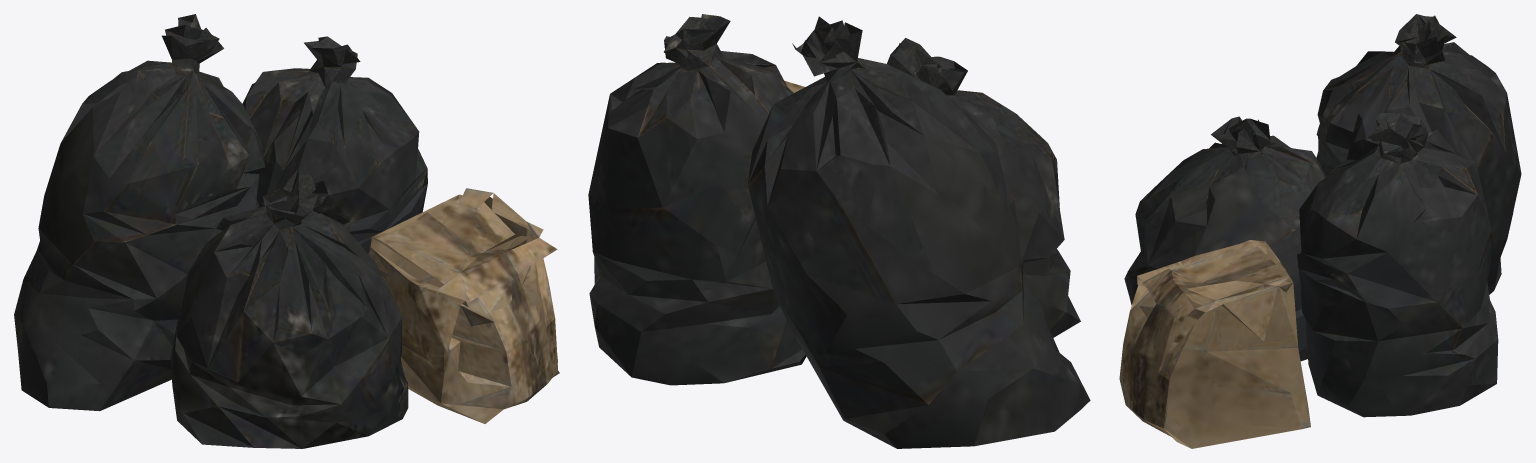
The model's file is garbage_cluster_1500.glb.
The picture shows the model from 3 angles, left to right: view 1: azimuth 30°, elevation 25°; view 2: azimuth 150°, elevation 25°; view 3: azimuth 270°, elevation 25°; orthographic projection. The views are drawn at different scales.
Visible parts, largest first — view 1: output_unwrapped; view 2: output_unwrapped; view 3: output_unwrapped.
Boxes of the visible parts, x1,y1,x2,y2 form: output_unwrapped: (14,14,559,448); output_unwrapped: (588,14,1090,448); output_unwrapped: (1119,14,1521,448).
Bounding box in the file's own units: 2.2 × 1.62 × 1.85.
1 material, 1 textured.
